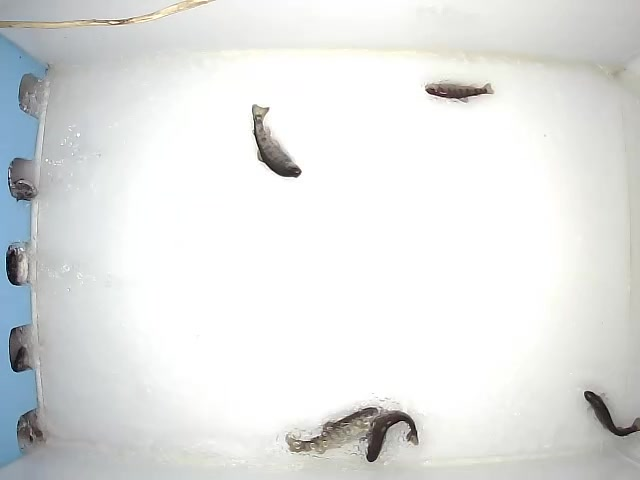fish: (284, 405, 378, 456), (251, 103, 302, 179), (363, 409, 419, 462), (582, 388, 640, 437), (421, 80, 495, 105)
